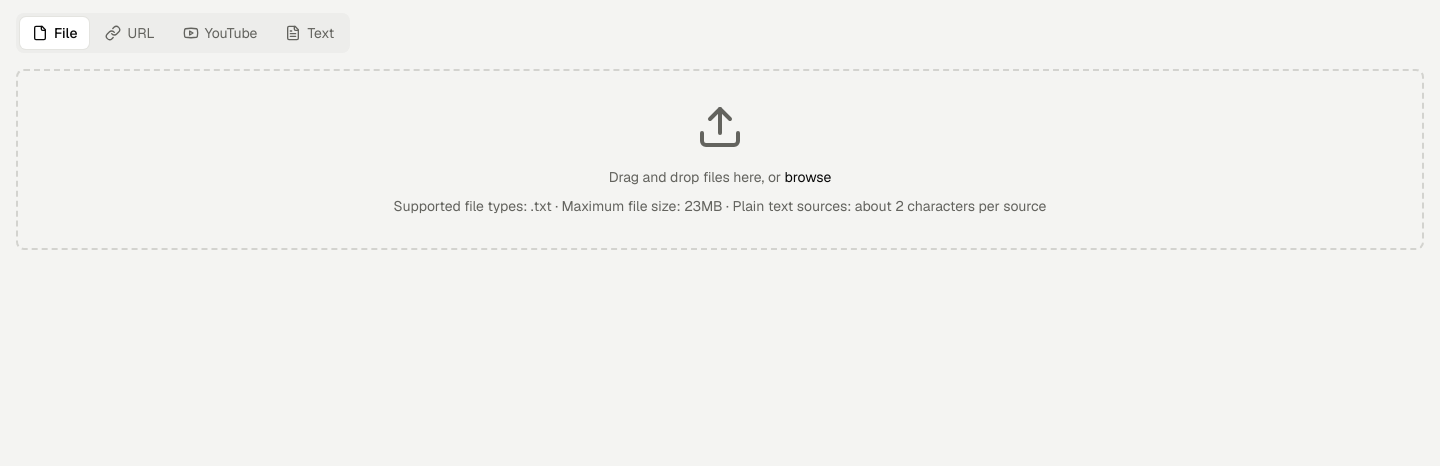
Test: FileUpload › blocks pasted text beyond the backend chunk budget
The width and height of the screenshot is (1440, 466).
Expected: the file field labelled "browse" is enabled, [785,168,831,186]
Click the button "Text" at (310, 33), box [274,17,346,49]
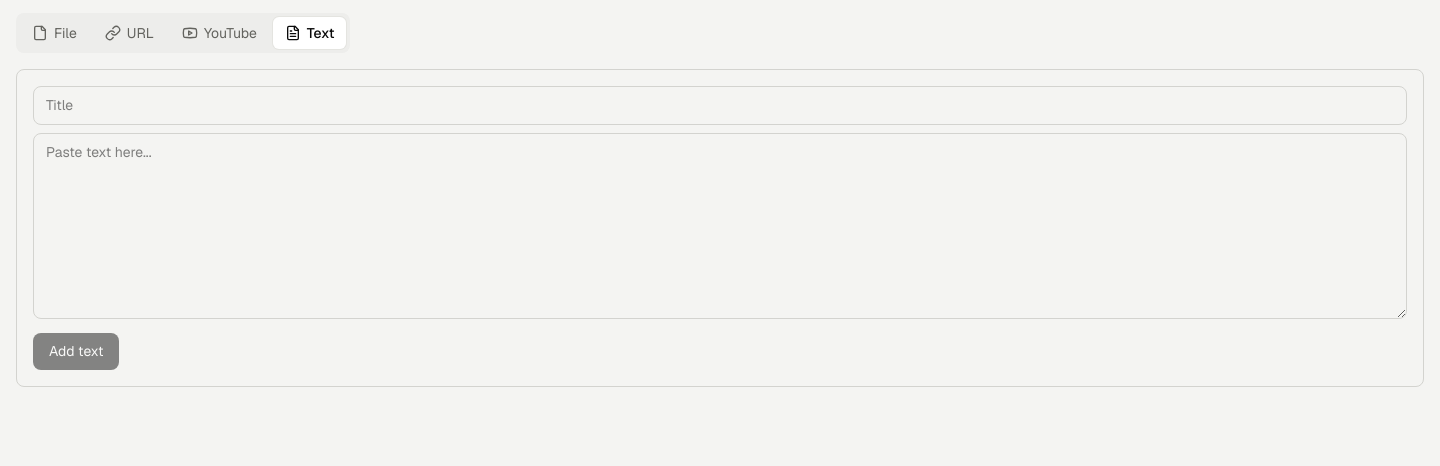
Type "Notes" into the field named "Source title" at (720, 106), box [33,86,1407,125]
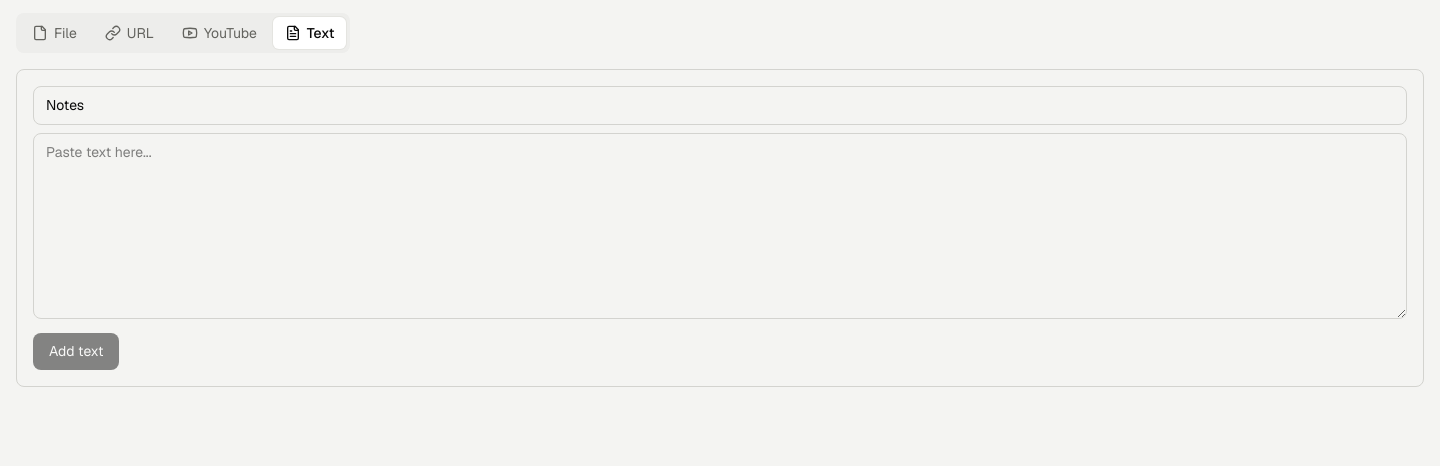
Type "😀😀😀" into the text box named "Source text" at (720, 226), box [33,133,1407,319]
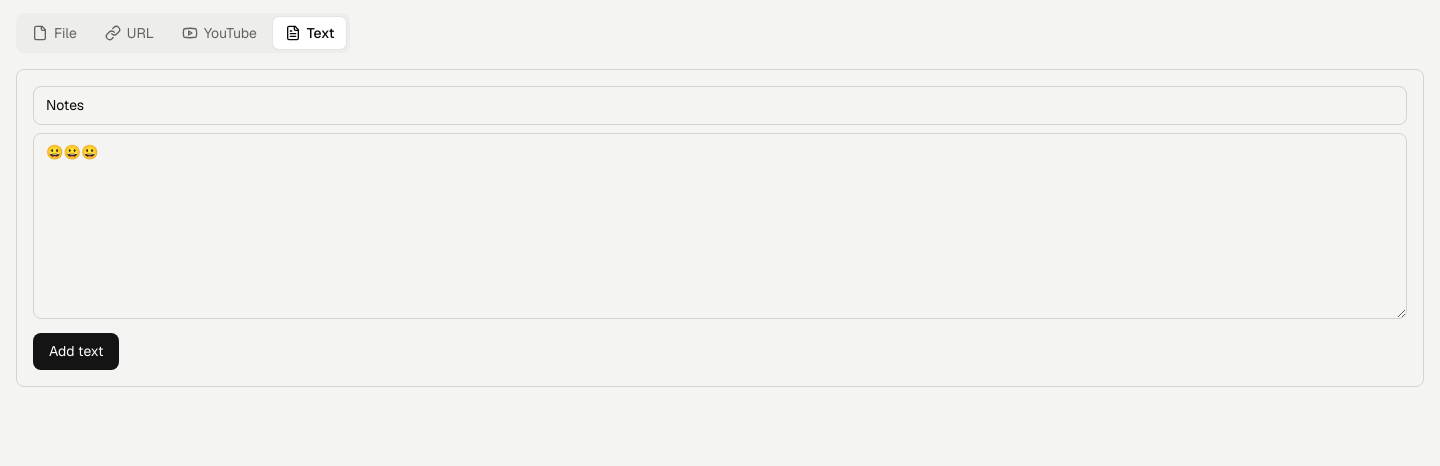
Click the button "Add text" at (76, 352), box [33,333,120,370]
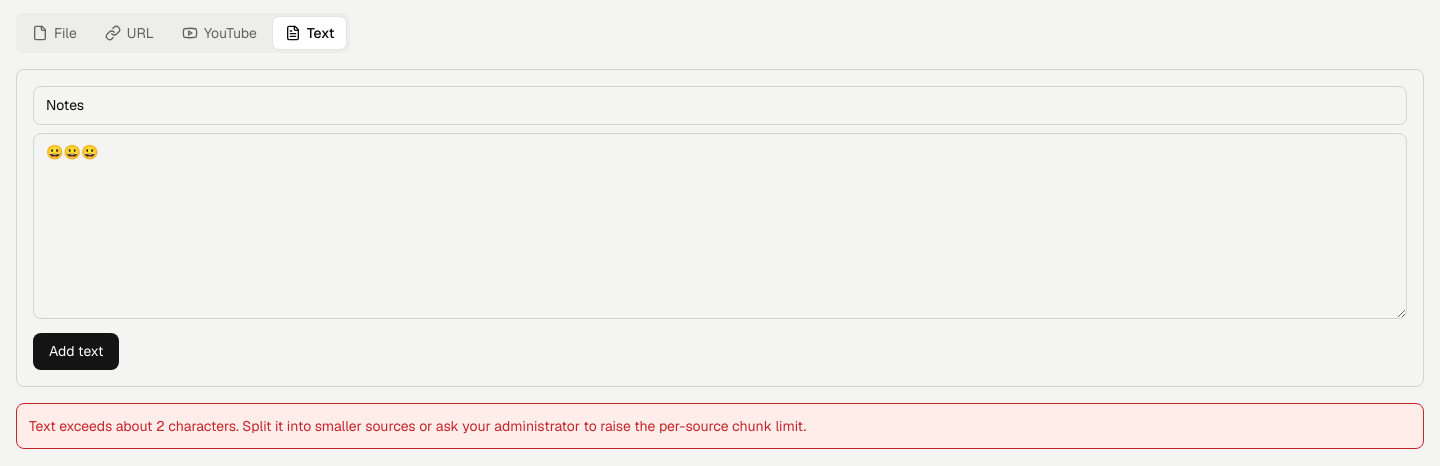
Now the text "Text exceeds about 2 characters. Split it into smaller sources or ask your administrator to raise the per-source chunk l" is shown, box [29,417,806,435]
